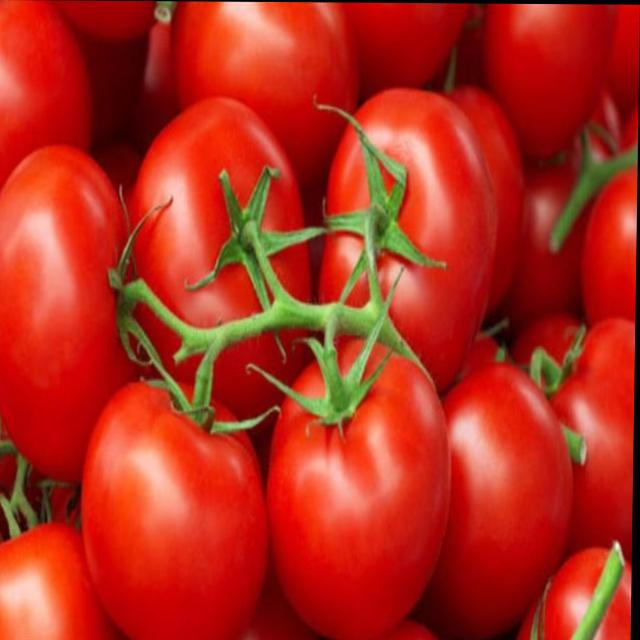kirmizi: (39, 56, 573, 629)
